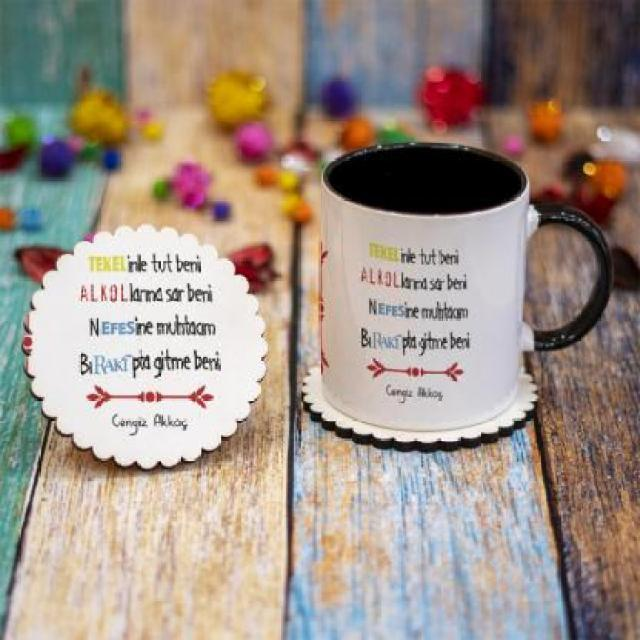taza: (316, 140, 612, 432)
